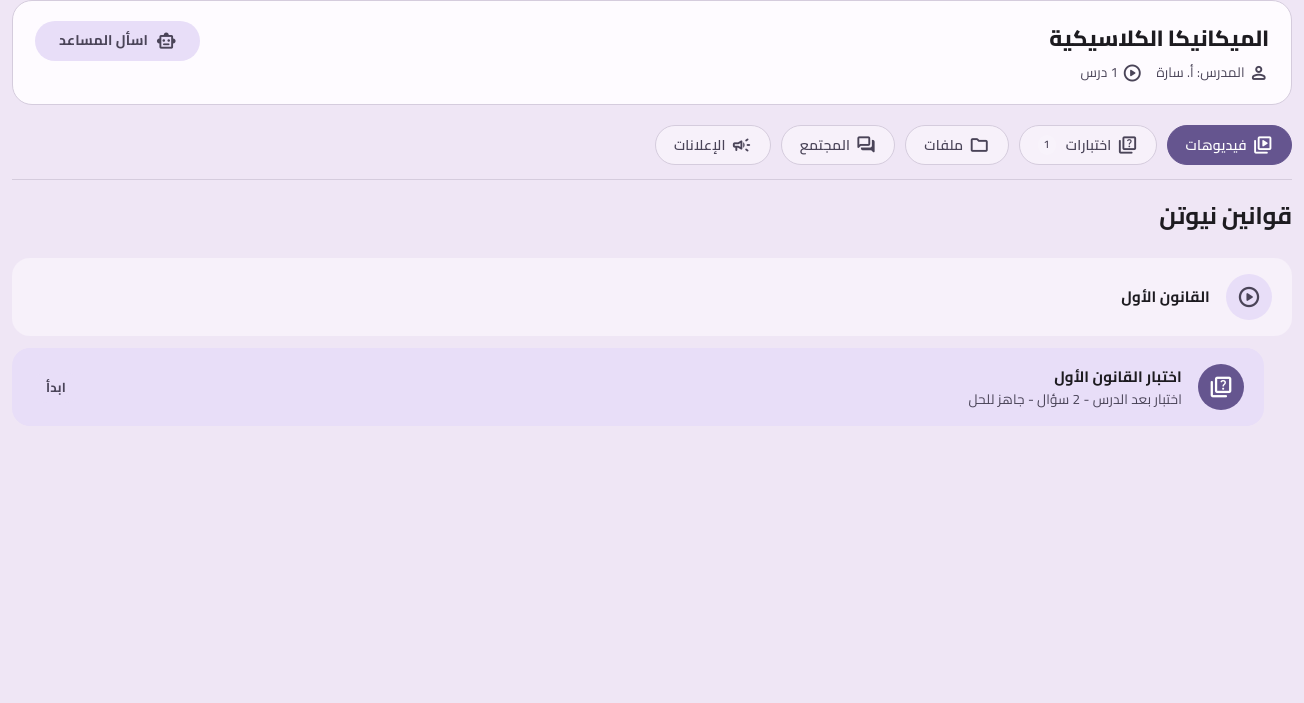
it: CourseDetailView › switches between Quizzes, Community, and Announcements tabs cleanly
The image size is (1304, 703).
Step 1. Click the tab "اختبارات 1" → (1088, 145), box [1018,125,1156,165]
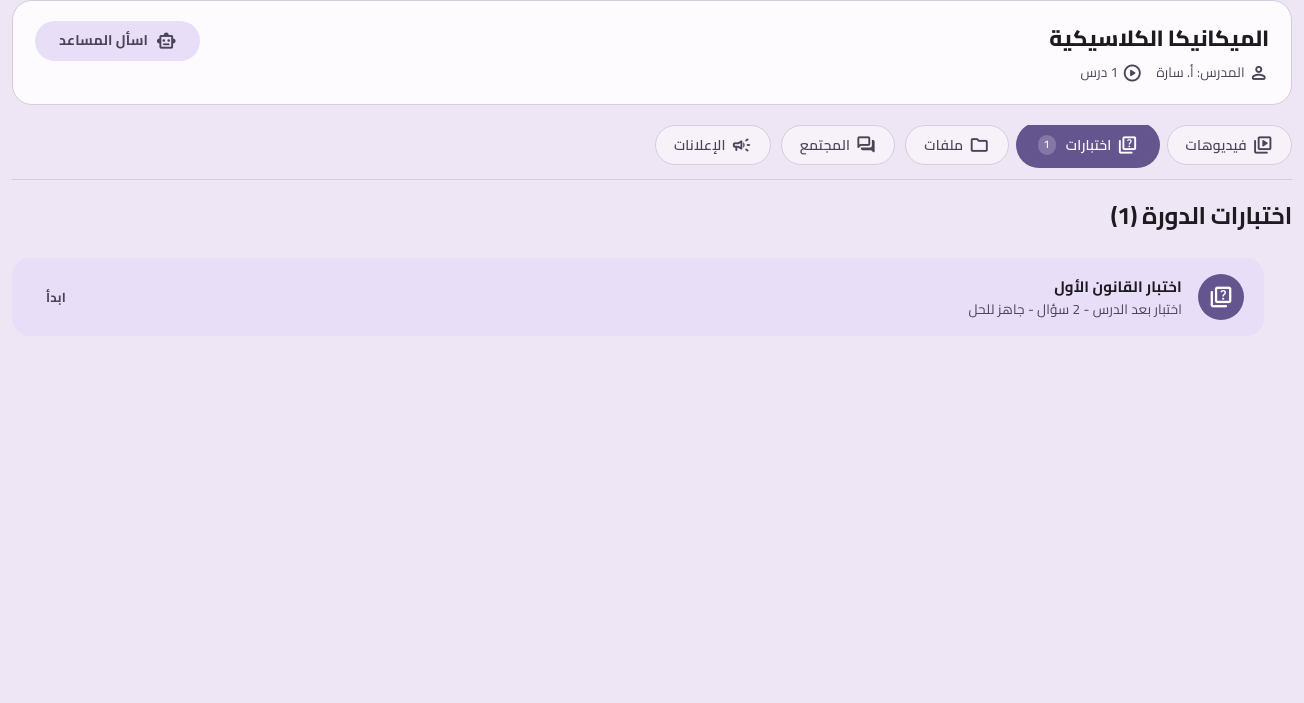
Check: the heading "اختبارات الدورة (1)" is shown, box [1111,202,1292,230]
Step 2. Click the tab "المجتمع" → (838, 145), box [781,125,895,165]
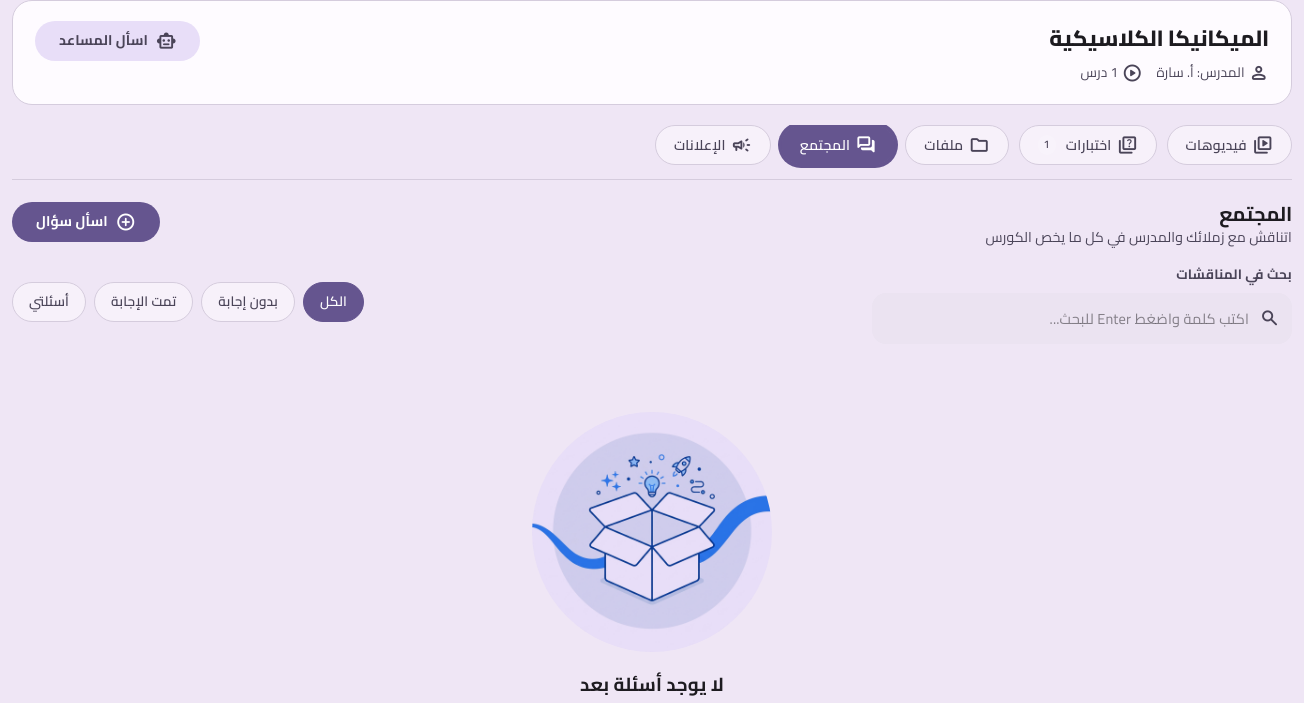
Check: the text "اتناقش مع زملائك والمدرس في كل ما يخص الكورس" is shown, box [985,226,1292,248]
Step 3. Click the tab "الإعلانات" → (713, 145), box [655,125,771,165]
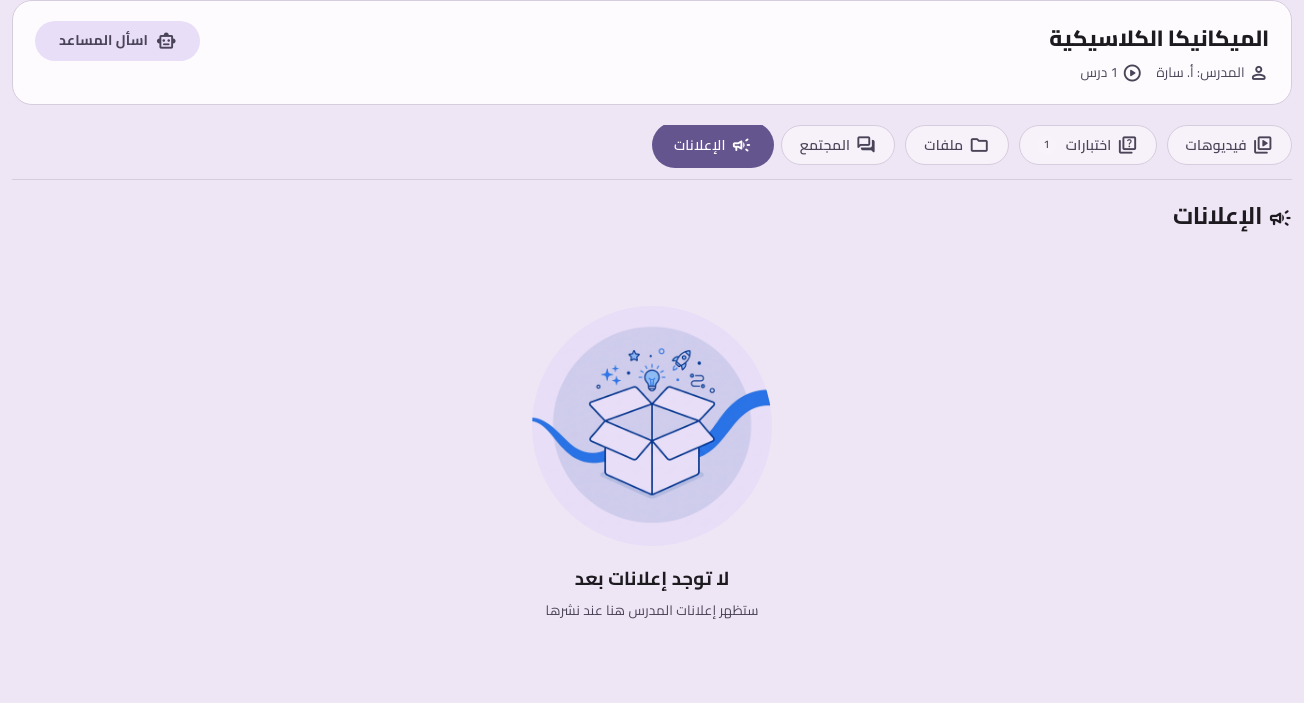
Check: the heading "لا توجد إعلانات بعد" is shown, box [575,562,729,596]
